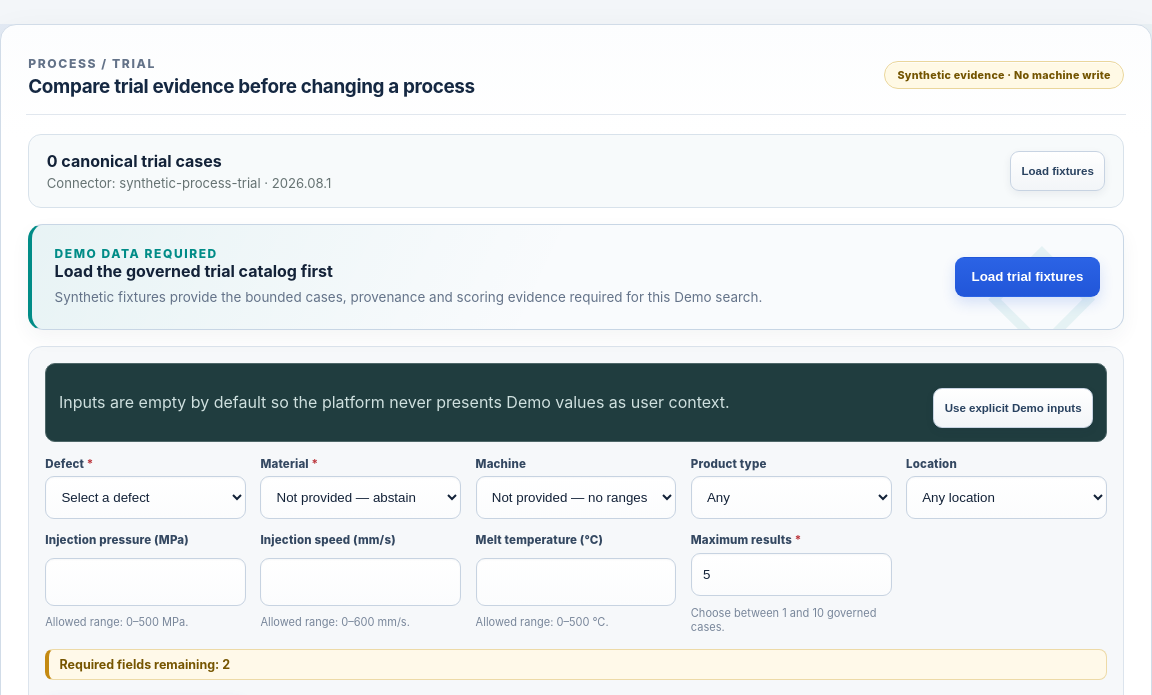
ProcessTrialWorkspace › can explicitly load the synthetic connector fixtures
What coordinates should you click on to do the following:
click the button "Load trial fixtures"
I would click on:
 (1028, 276)
Its box is [955,256,1100,296].
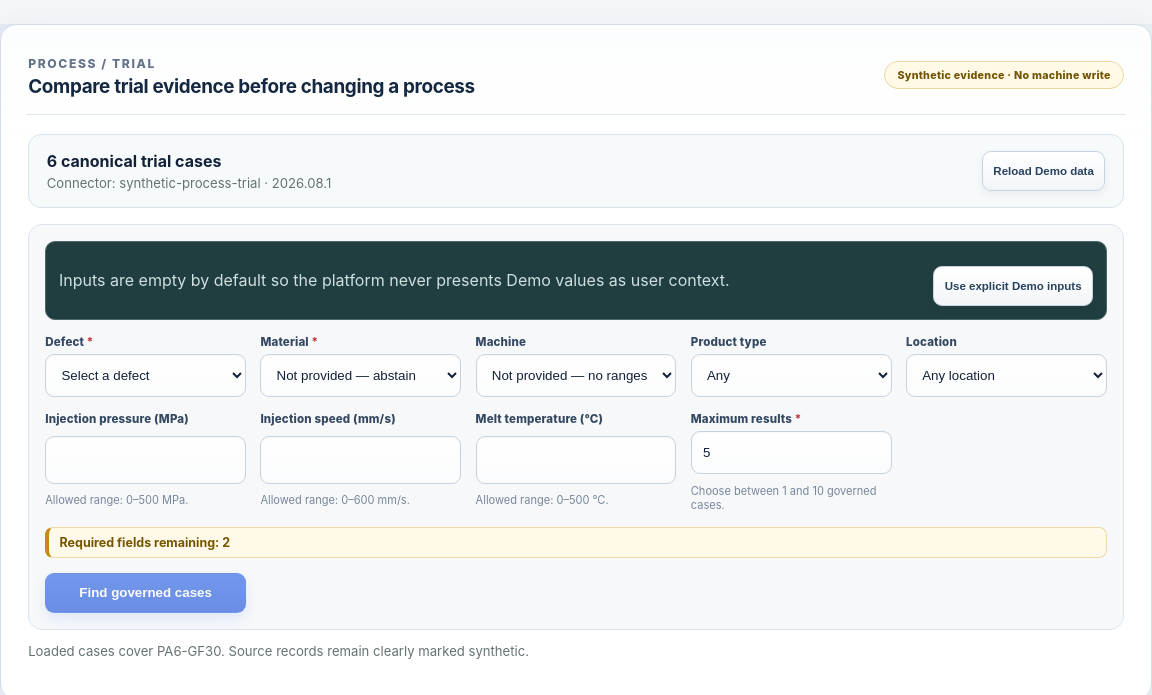
Check: the text "6 canonical trial cases" is shown, box [47,151,221,171]
